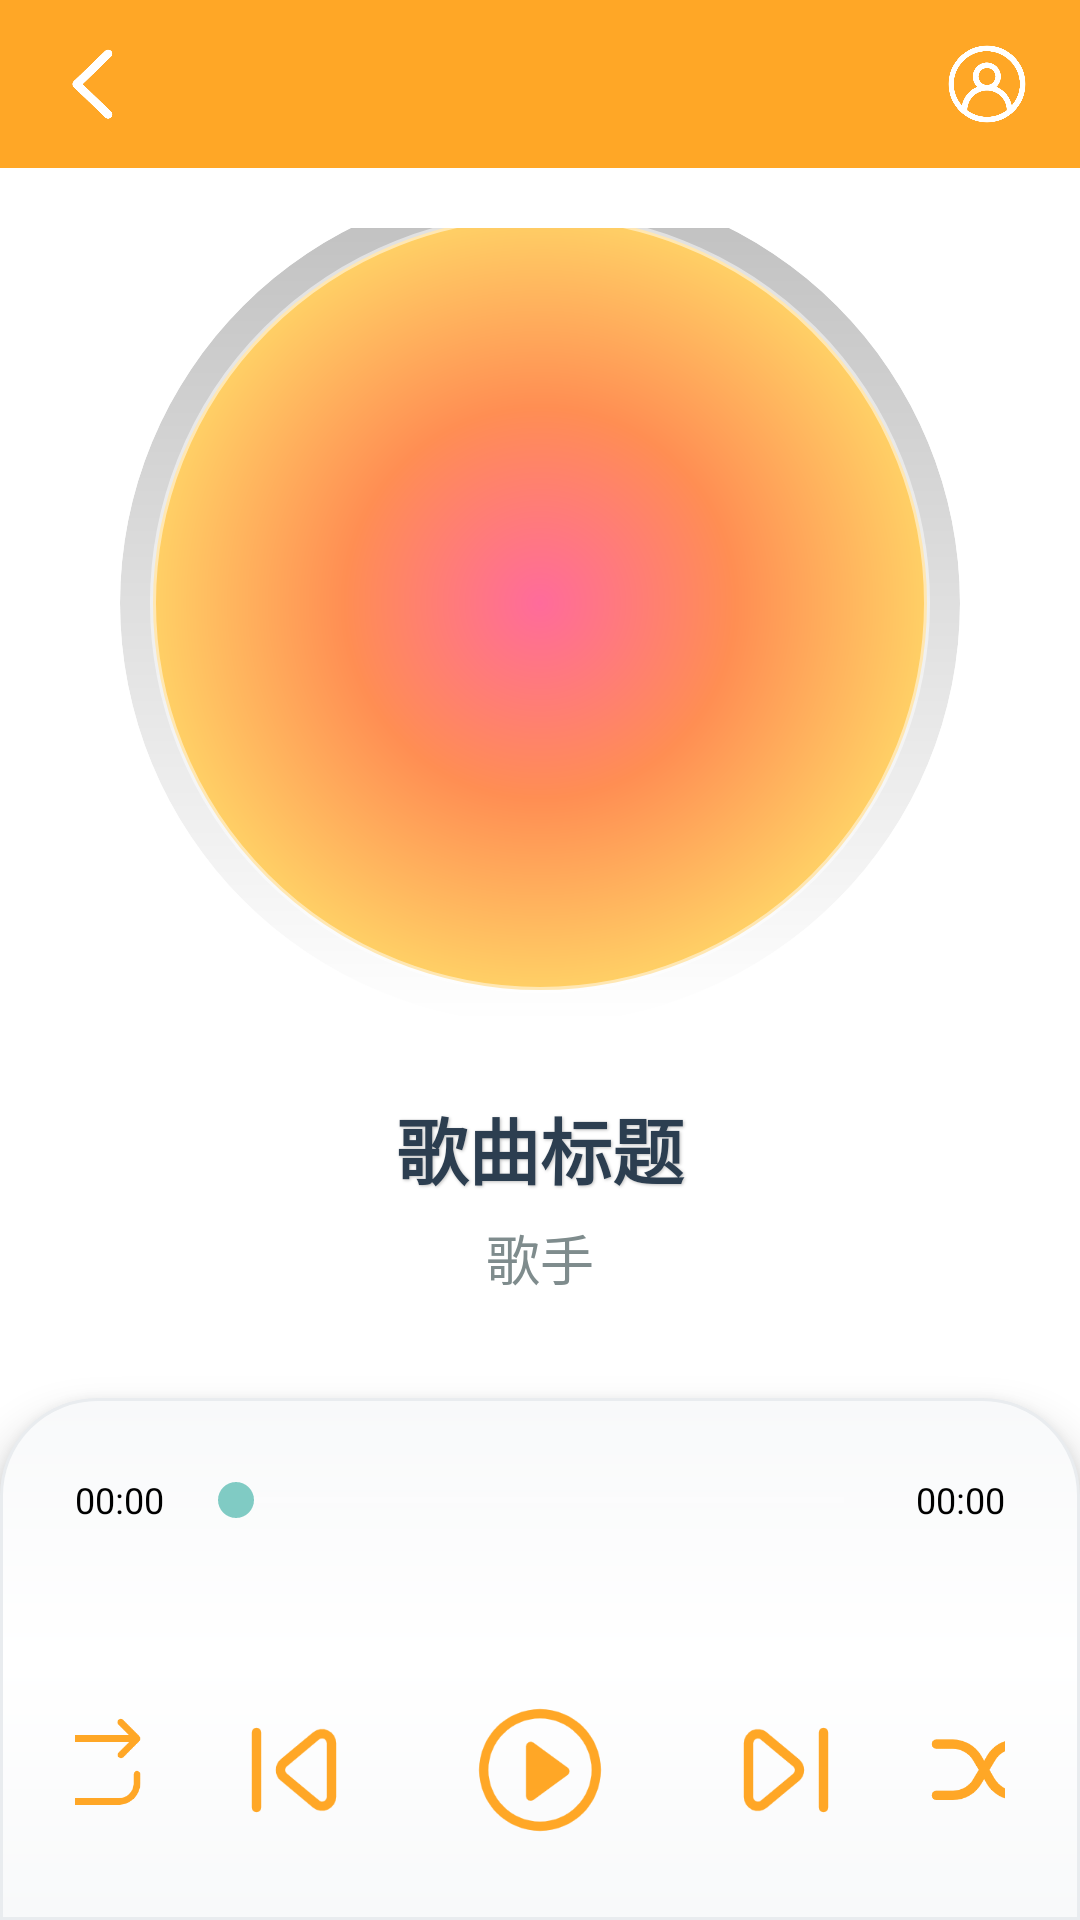

Where icons sit on this 1080x1920 app screen, as (x1, y1, x2, y2):
back: (72, 50, 113, 119)
next: (743, 1727, 829, 1813)
play: (479, 1709, 601, 1831)
pre: (251, 1727, 337, 1813)
user: (948, 45, 1026, 123)
